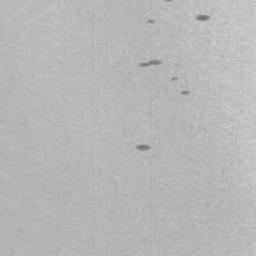Inclusion: (138, 59, 161, 68), (136, 143, 152, 151), (196, 14, 211, 22), (180, 90, 192, 96), (145, 18, 156, 24)
